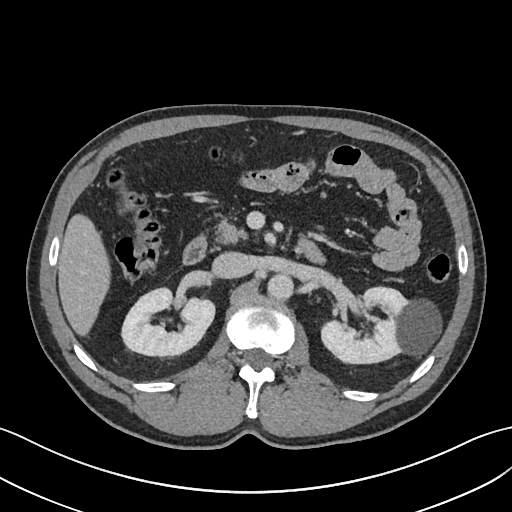Lesion: (393, 294, 445, 359)
